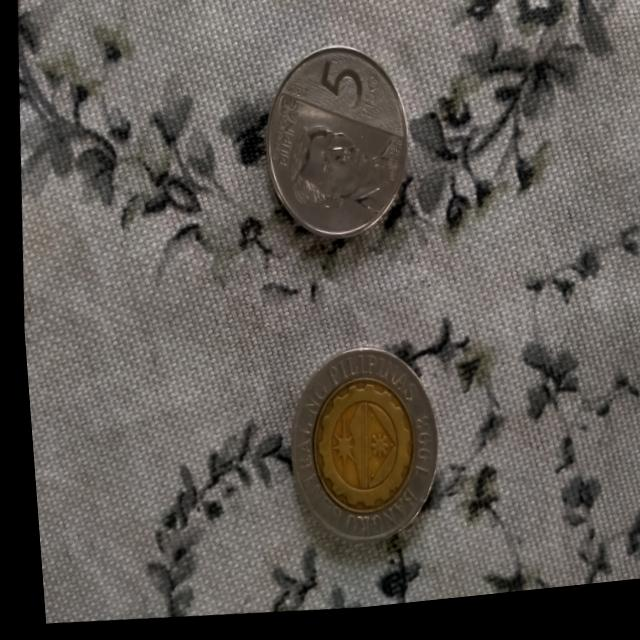10_Old_Back: (286, 356, 433, 550)
5_New_Front: (309, 58, 389, 140)
